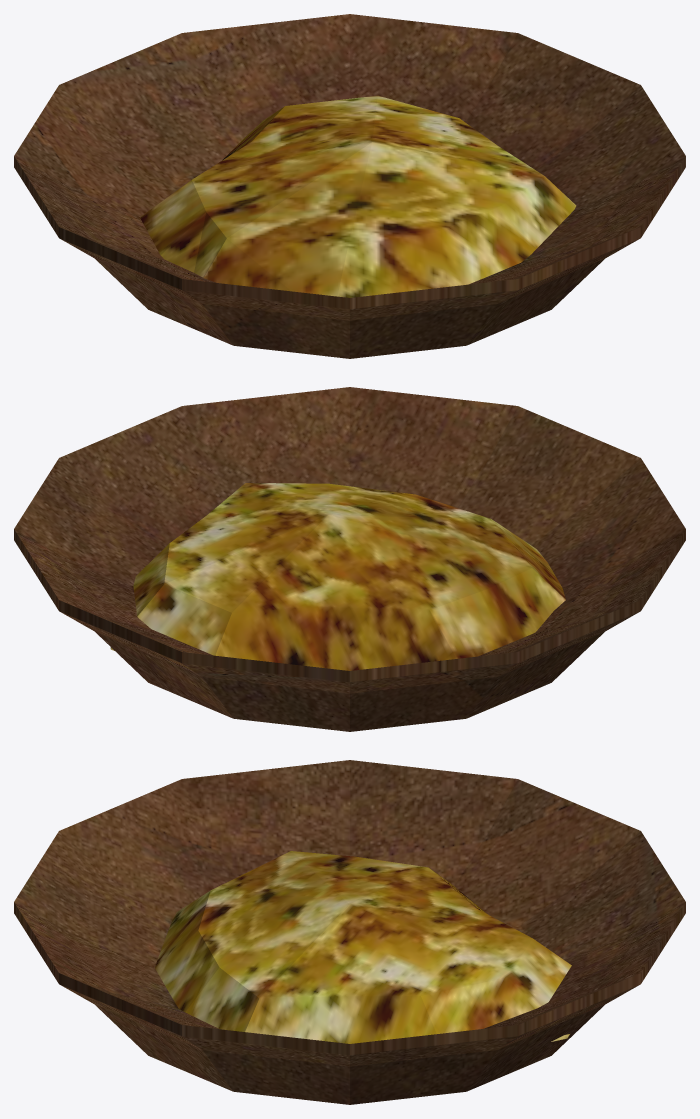
File: KM_ITFO_SCRAMBLEDEGGS.glb
3 views of the same model, one above another, from view 1: azimuth 30°, elevation 25°; view 2: azimuth 150°, elevation 25°; view 3: azimuth 270°, elevation 25° (orthographic).
Parts seen in each view (by area): view 1: KM_ITFO_SCRAMBLEDEGGS; view 2: KM_ITFO_SCRAMBLEDEGGS; view 3: KM_ITFO_SCRAMBLEDEGGS.
Boxes of the visible parts, x1=… form: KM_ITFO_SCRAMBLEDEGGS: x1=14, y1=14, x2=685, y2=358; KM_ITFO_SCRAMBLEDEGGS: x1=14, y1=387, x2=685, y2=731; KM_ITFO_SCRAMBLEDEGGS: x1=14, y1=760, x2=685, y2=1104.
Size of the model in its own units: 0.3559 by 0.066 by 0.3559.
2 materials, 2 textured.
